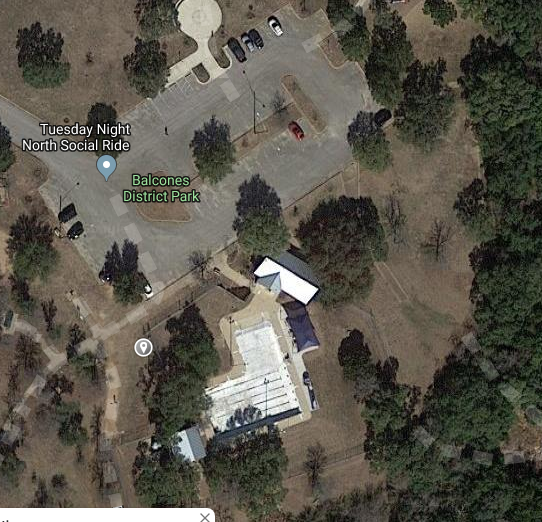soccer: (386, 207, 455, 345)
